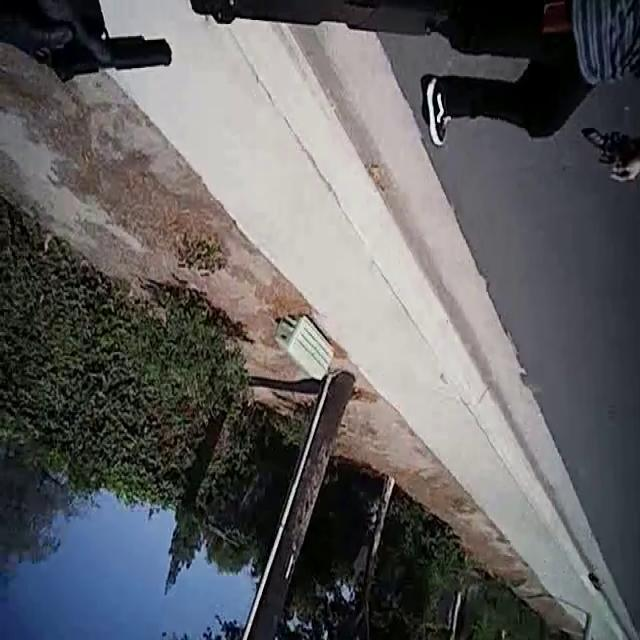gun: (36, 20, 189, 98)
